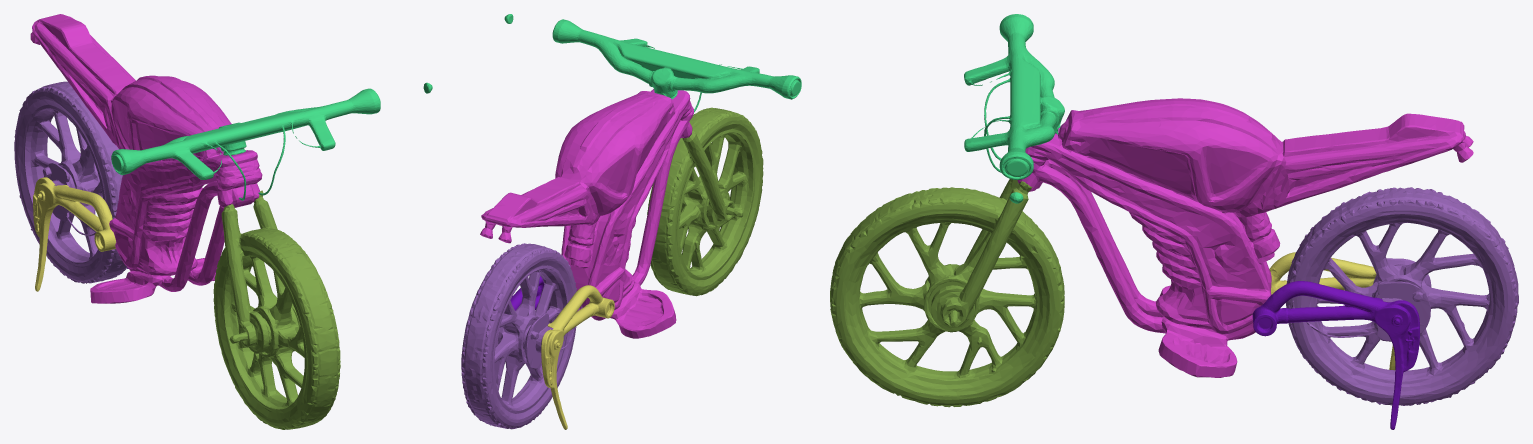
The picture shows the model from 3 angles, left to right: view 1: azimuth 30°, elevation 25°; view 2: azimuth 150°, elevation 25°; view 3: azimuth 270°, elevation 25°; orthographic projection. The views are drawn at different scales.
Visible parts, largest first — view 1: world; view 2: world; view 3: world.
Boxes of the visible parts, box(x1,y1,x2,y2) form: world: box(14, 14, 432, 429); world: box(461, 14, 801, 429); world: box(830, 14, 1518, 429).
Bounding box in the file's own units: 1.2 × 1.02 × 2.
